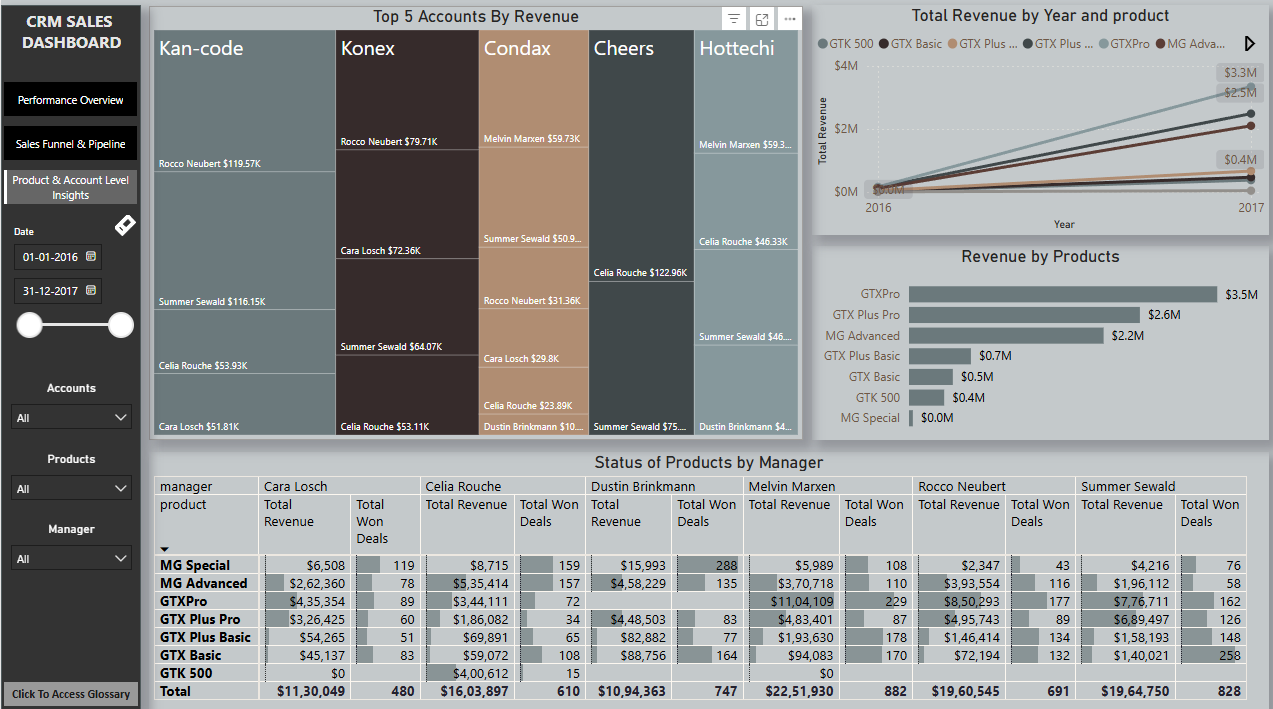

The dashboard page shown, as its layout file describes it:
{"tool":"powerbi","page":{"name":"Product & Account Level Insights","canvas":[1280,720],"ordinal":2},"visuals":[{"type":"shape","box":[0,0,141,720],"z":0},{"type":"pivotTable","title":"Status of Products by Manager","fields":{"Rows":["sales_pipeline.product"],"Values":["sales_pipeline.Total Revenue","sales_pipeline.Total Won Deals"],"Columns":["sales_teams.manager"]},"box":[148.2,452.5,1119.7,258],"z":1000},{"type":"treemap","title":"Top 5 Accounts By Revenue","fields":{"Values":["sales_pipeline.Total Revenue"],"Group":["accounts.account"],"Details":["sales_teams.manager"]},"box":[147.8,7.4,653.8,436.9],"z":2000},{"type":"clusteredBarChart","title":"Revenue by Products","fields":{"Category":["sales_pipeline.product"],"Y":["sales_pipeline.Total Revenue"]},"box":[811.2,249.8,457.1,194.6],"z":3000},{"type":"slicer","fields":{"Values":["calendar.Date"]},"box":[0,222,141,128],"z":5000},{"type":"slicer","title":"Accounts","fields":{"Values":["accounts.account"]},"box":[0,382,141,62],"z":6000},{"type":"slicer","title":"Products","fields":{"Values":["products.product"]},"box":[0,453,141,62],"z":7000},{"type":"slicer","title":"Manager","fields":{"Values":["sales_teams.manager"]},"box":[0,523,141,62],"z":8000},{"type":"actionButton","title":"Reset3","box":[107.8,210,38.9,33.3],"z":9000},{"type":"textbox","box":[0,0,141,62],"z":10000},{"type":"pageNavigator","box":[3,71,133,127],"z":11000},{"type":"actionButton","box":[4,693,134,24],"z":12000},{"type":"lineChart","title":"Product Revenue by Time Period","fields":{"Category":["calendar.Date.Variation.Date Hierarchy.Year","calendar.Date.Variation.Date Hierarchy.Quarter","calendar.Date.Variation.Date Hierarchy.Month"],"Y":["sales_pipeline.Dynamic Time Measure"],"Series":["sales_pipeline.product"]},"box":[811.2,7.4,457.1,236],"z":13000},{"type":"actionButton","box":[1187.6,0,32.3,23.1],"z":14001},{"type":"actionButton","box":[1219.9,0,30.5,23.1],"z":14002},{"type":"actionButton","box":[1250.4,0,29.6,23.1],"z":14003}]}

Visuals, with their boxes in screenshot pixels (x1, y1, x2, y2), scaled from the page's 1280x720 canvas onto the 1273x709 screenshot:
shape: pyautogui.locateOnScreen(0, 0, 140, 708)
"Status of Products by Manager" pivotTable: pyautogui.locateOnScreen(147, 446, 1261, 700)
"Top 5 Accounts By Revenue" treemap: pyautogui.locateOnScreen(147, 7, 797, 438)
"Revenue by Products" clusteredBarChart: pyautogui.locateOnScreen(807, 246, 1261, 438)
slicer - calendar.Date: pyautogui.locateOnScreen(0, 219, 140, 345)
"Accounts" slicer: pyautogui.locateOnScreen(0, 376, 140, 437)
"Products" slicer: pyautogui.locateOnScreen(0, 446, 140, 507)
"Manager" slicer: pyautogui.locateOnScreen(0, 515, 140, 576)
"Reset3" actionButton: pyautogui.locateOnScreen(107, 207, 146, 240)
textbox: pyautogui.locateOnScreen(0, 0, 140, 61)
pageNavigator: pyautogui.locateOnScreen(3, 70, 135, 195)
actionButton: pyautogui.locateOnScreen(4, 682, 137, 706)
"Product Revenue by Time Period" lineChart: pyautogui.locateOnScreen(807, 7, 1261, 240)
actionButton: pyautogui.locateOnScreen(1181, 0, 1213, 23)
actionButton: pyautogui.locateOnScreen(1213, 0, 1244, 23)
actionButton: pyautogui.locateOnScreen(1244, 0, 1272, 23)
